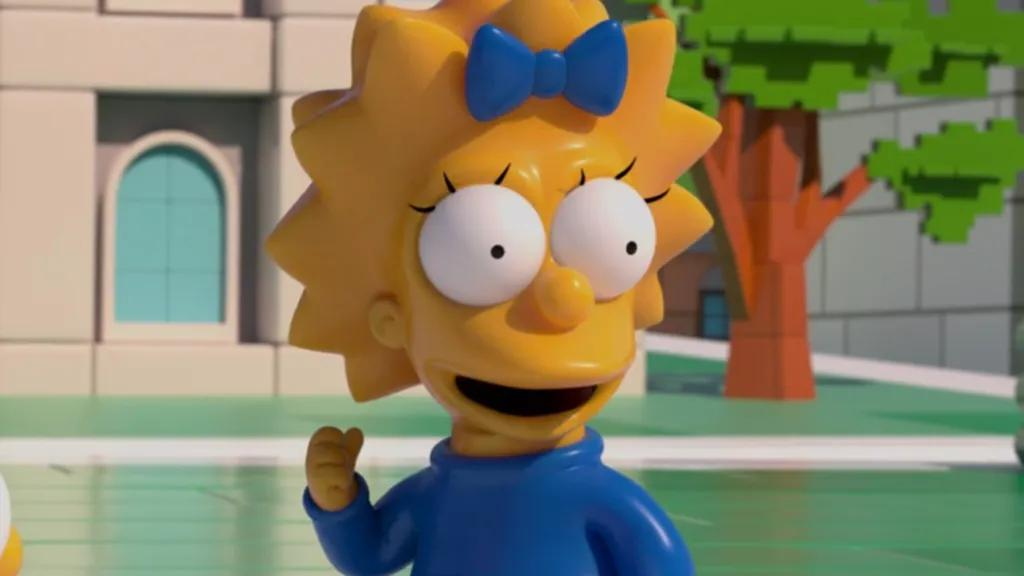Maggie: (231, 2, 753, 576)
